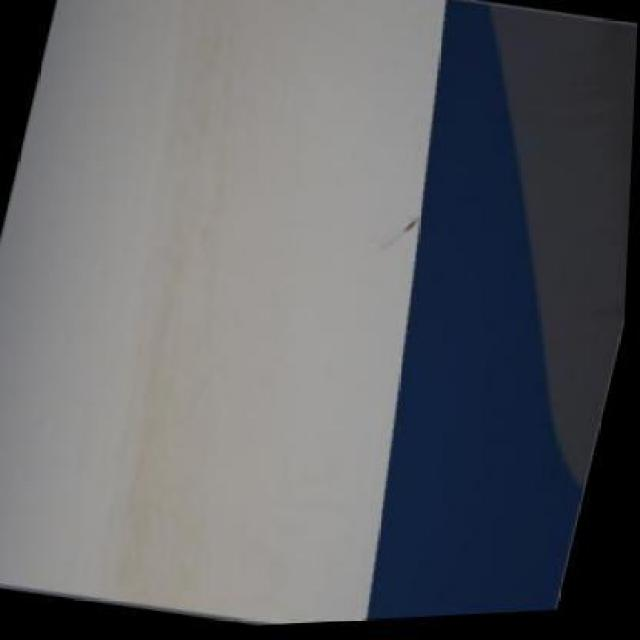Crack: (377, 190, 429, 268)
